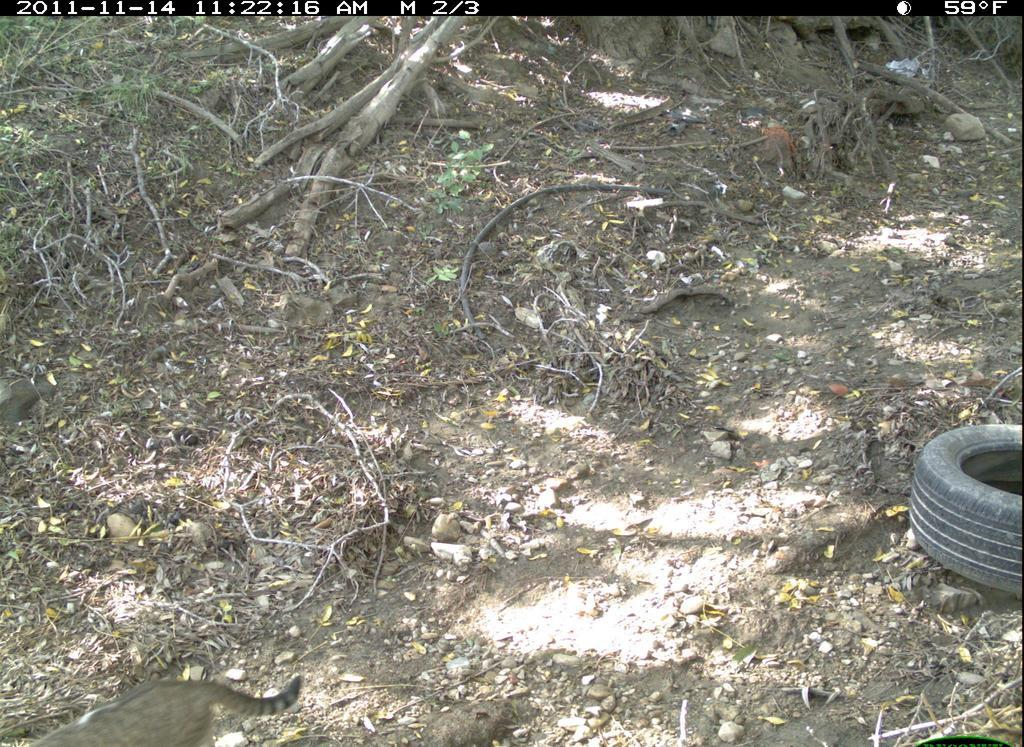cat: (11, 668, 310, 747)
